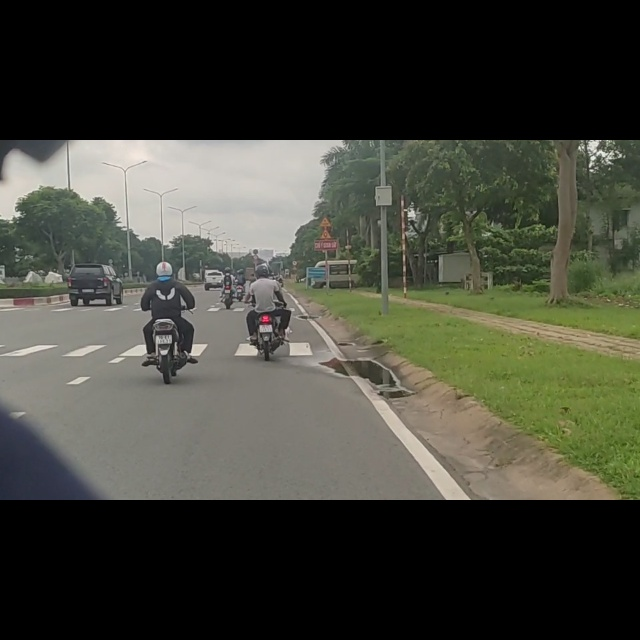bien_cam: (319, 135, 333, 154), (320, 158, 332, 177), (253, 194, 259, 204)
